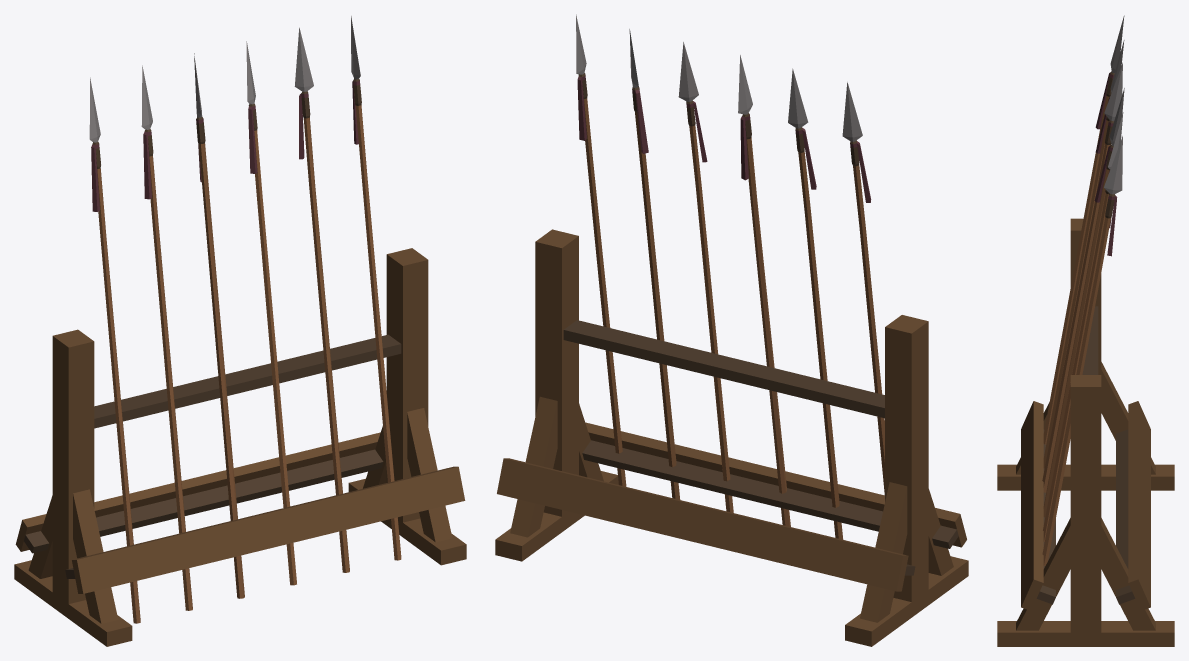
Rendered from SM_Weapon_Stand_Spear_Empire.fbx.
3 renders of one model, left to right at view 1: azimuth 30°, elevation 25°; view 2: azimuth 150°, elevation 25°; view 3: azimuth 270°, elevation 25°, orthographic. The views are drawn at different scales.
Parts seen in each view (by area): view 1: SM_Weapon_Stand_Spear_Empire; view 2: SM_Weapon_Stand_Spear_Empire; view 3: SM_Weapon_Stand_Spear_Empire.
Part boxes in pixels (x1=…): SM_Weapon_Stand_Spear_Empire: x1=14, y1=16, x2=466, y2=646; SM_Weapon_Stand_Spear_Empire: x1=495, y1=14, x2=968, y2=646; SM_Weapon_Stand_Spear_Empire: x1=997, y1=15, x2=1174, y2=646.
Size of the model in its own units: 2.1 by 2.68 by 0.88.
